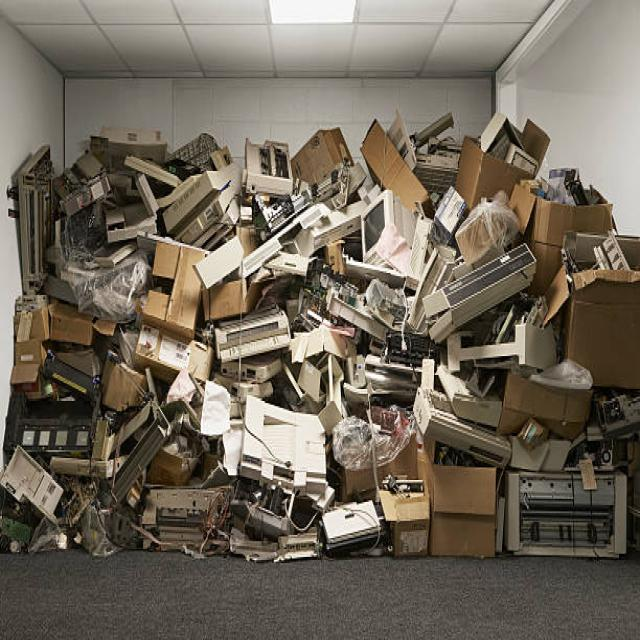cardboard: (16, 106, 606, 562)
